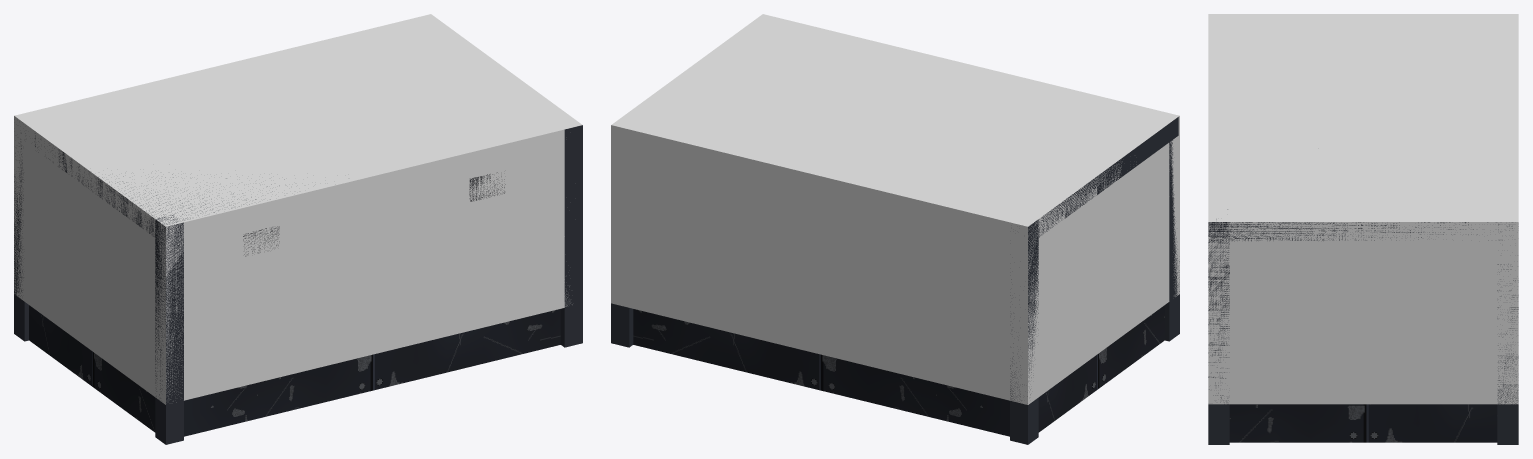
File: Deco_Crate.001.gltf
3 renders of one model, left to right at view 1: azimuth 30°, elevation 25°; view 2: azimuth 150°, elevation 25°; view 3: azimuth 270°, elevation 25°, orthographic. The views are drawn at different scales.
Visible parts, largest first — view 1: Deco_Crate.001_COL, Deco_Crate.001; view 2: Deco_Crate.001_COL, Deco_Crate.001; view 3: Deco_Crate.001_COL, Deco_Crate.001.
Part boxes in pixels (x1,y1,x2,y2): Deco_Crate.001_COL: [14, 14, 582, 404]; Deco_Crate.001: [14, 125, 582, 444]; Deco_Crate.001_COL: [611, 14, 1179, 404]; Deco_Crate.001: [611, 117, 1179, 444]; Deco_Crate.001_COL: [1208, 14, 1518, 404]; Deco_Crate.001: [1208, 209, 1518, 444].
Size of the model in its own units: 0.92 by 0.46 by 0.58.
5 materials, 2 textured.
